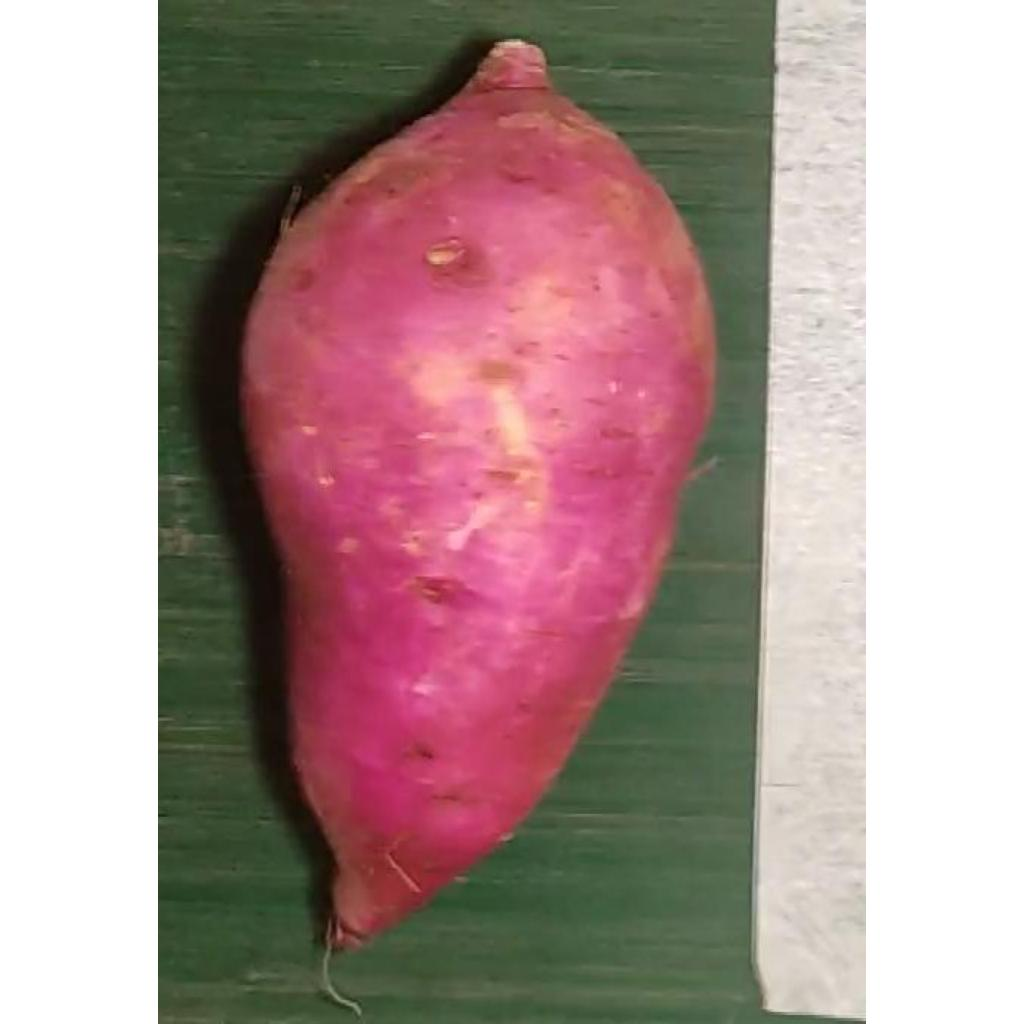Sweet Potato: (240, 39, 720, 954)
